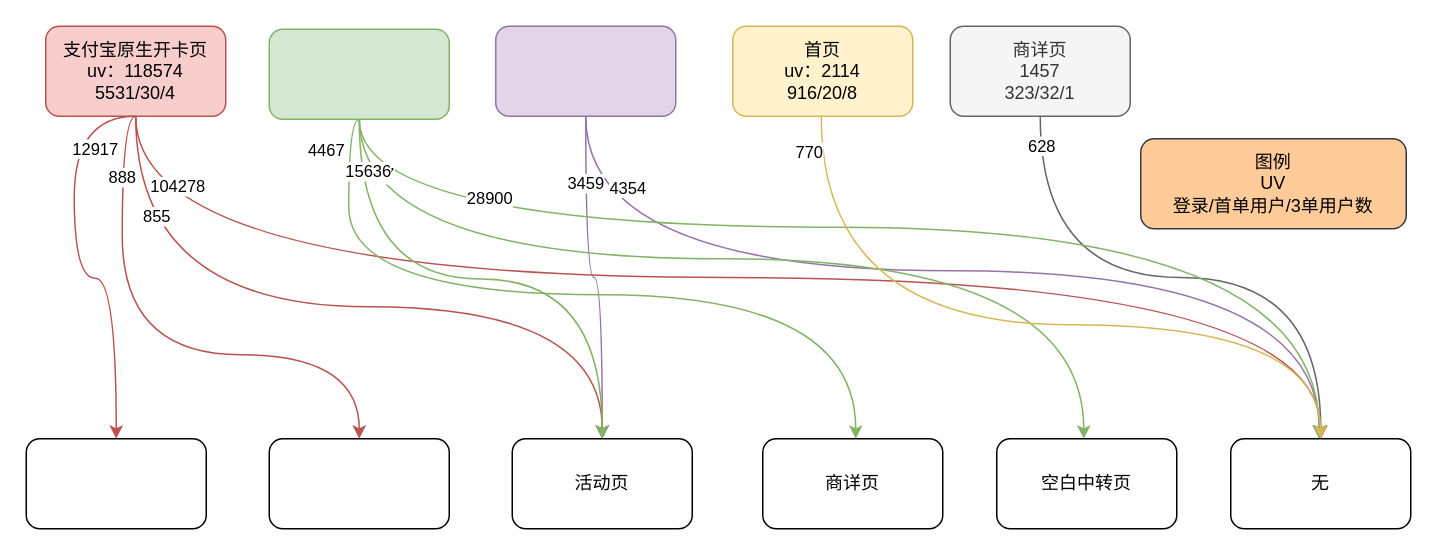
The diagram is 1437 pixels wide and 555 high, and some of its shapes have lost their labels. The box of each missing label's shape, as (x1, y1, x2, y2) in pixels:
支付宝原生开卡页: (25, 437, 206, 529)
活动页 uv：36458 2382/233/16: (268, 28, 449, 119)
空白中转页 uv:7868 1553/55/8: (494, 25, 676, 116)
首页: (268, 437, 449, 529)
